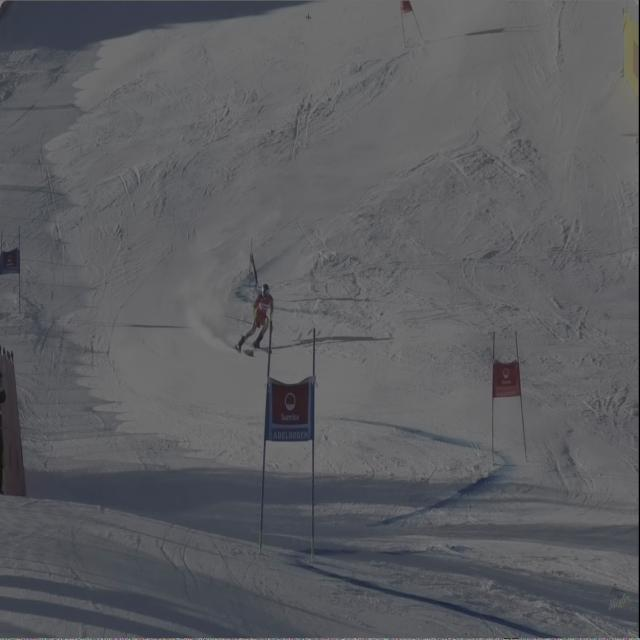gate: (304, 308, 346, 596), (482, 306, 549, 476), (255, 313, 277, 563), (299, 325, 321, 556)
